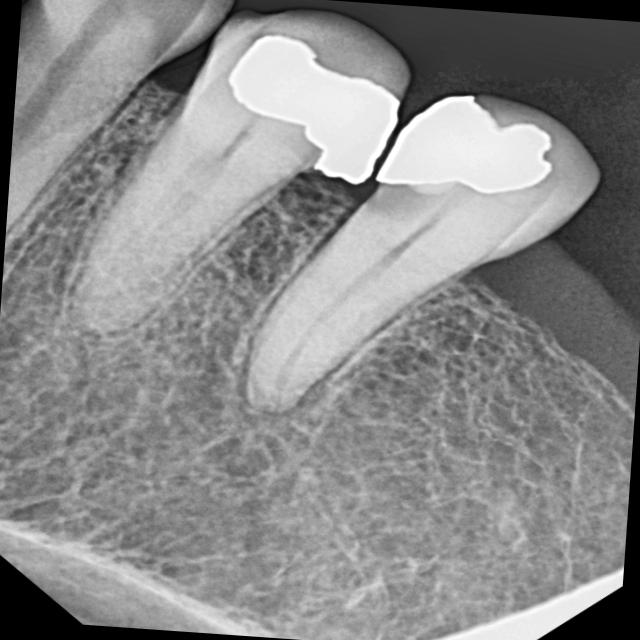Restoration: (219, 29, 571, 201)
